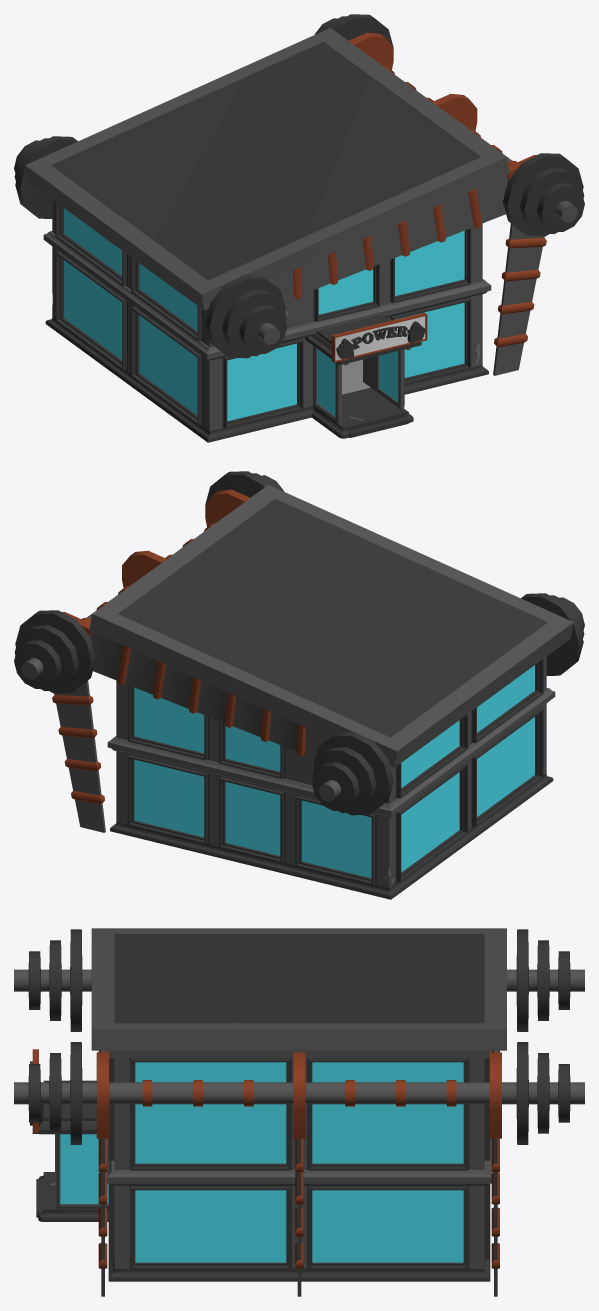
Rendered from SM_Buildings_Commercial_14.fbx.
3 renders of one model, top to bottom at view 1: azimuth 30°, elevation 25°; view 2: azimuth 150°, elevation 25°; view 3: azimuth 270°, elevation 25°, orthographic. The views are drawn at different scales.
Visible parts, largest first — view 1: SM_Buildings_Commercial_14; view 2: SM_Buildings_Commercial_14; view 3: SM_Buildings_Commercial_14.
Part boxes in pixels (left/top/right/bottom): SM_Buildings_Commercial_14: left=14, top=14, right=584, bottom=442; SM_Buildings_Commercial_14: left=14, top=471, right=584, bottom=899; SM_Buildings_Commercial_14: left=14, top=928, right=584, bottom=1296.
Bounding box in the file's own units: 13.7 × 7.7 × 15.41.
